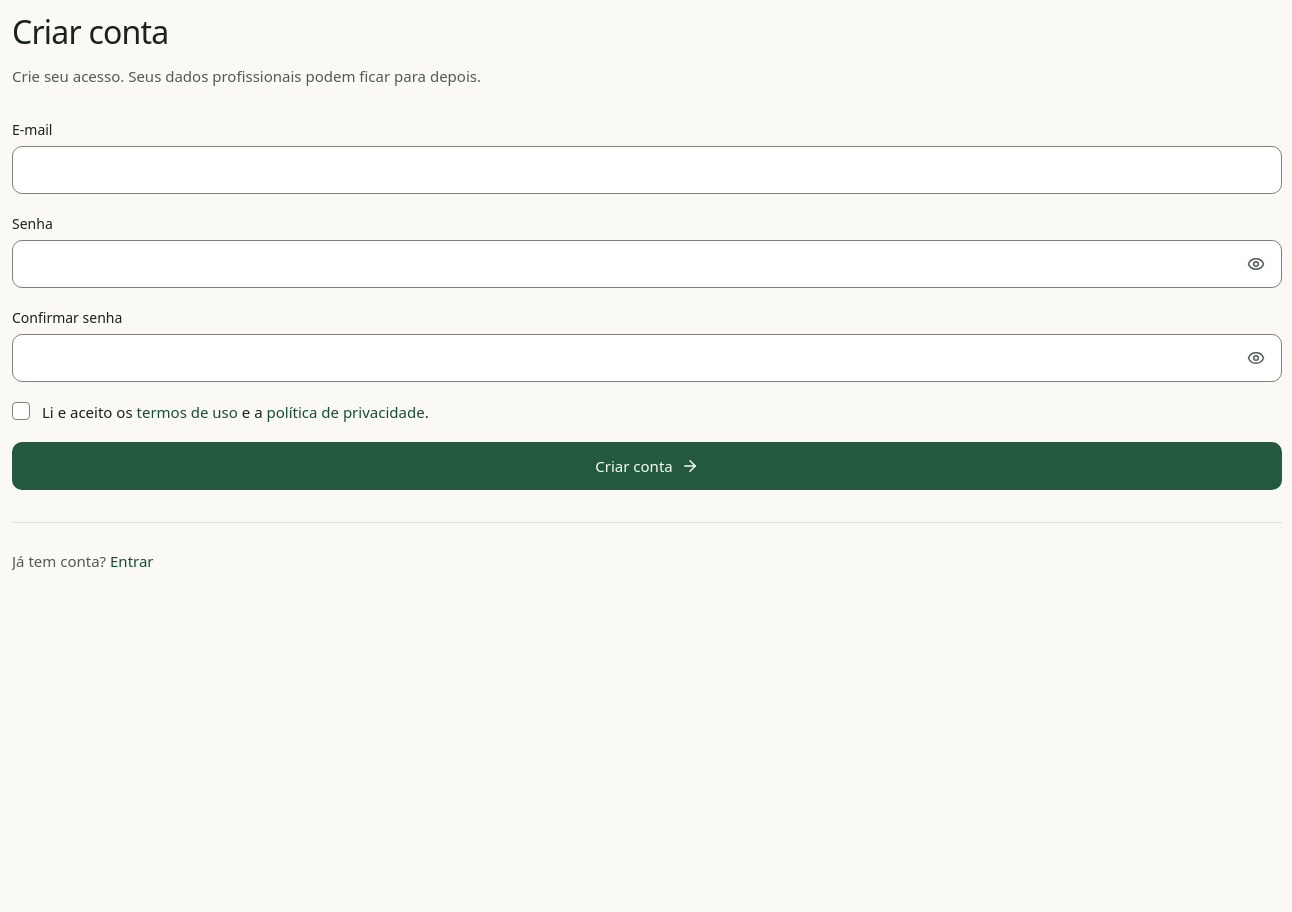
Test: Cadastro sem identificação profissional obrigatória › permanece no acesso sem anunciar envio quando a API falha
This screenshot has width=1292, height=912.
Type "ana@exemplo.com.br" into the field labelled "E-mail" at coordinates (647, 170), box [12,146,1282,194]
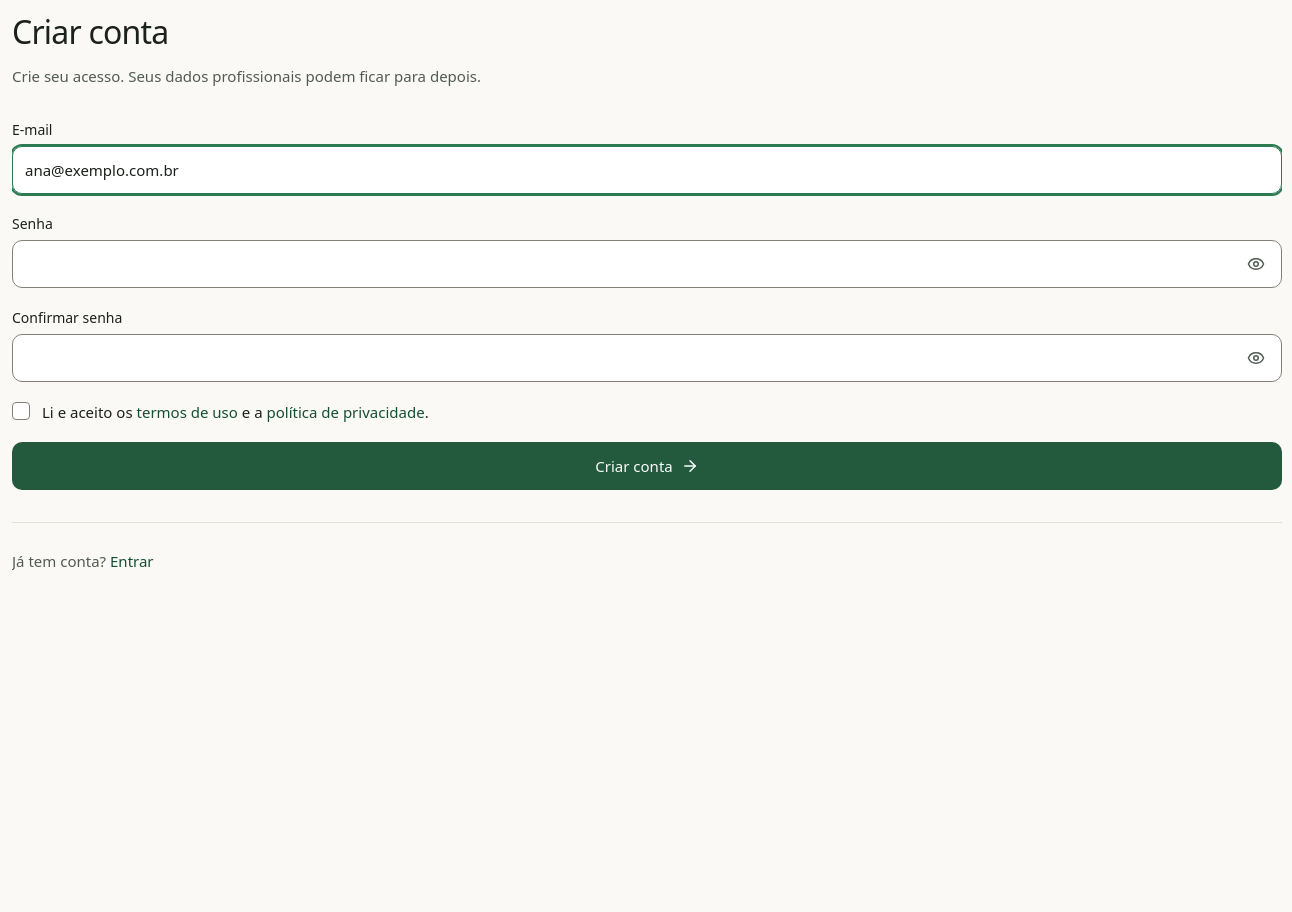
Type "SenhaSegura123!" into the password field labelled "Senha" at coordinates (647, 264), box [12,240,1282,288]
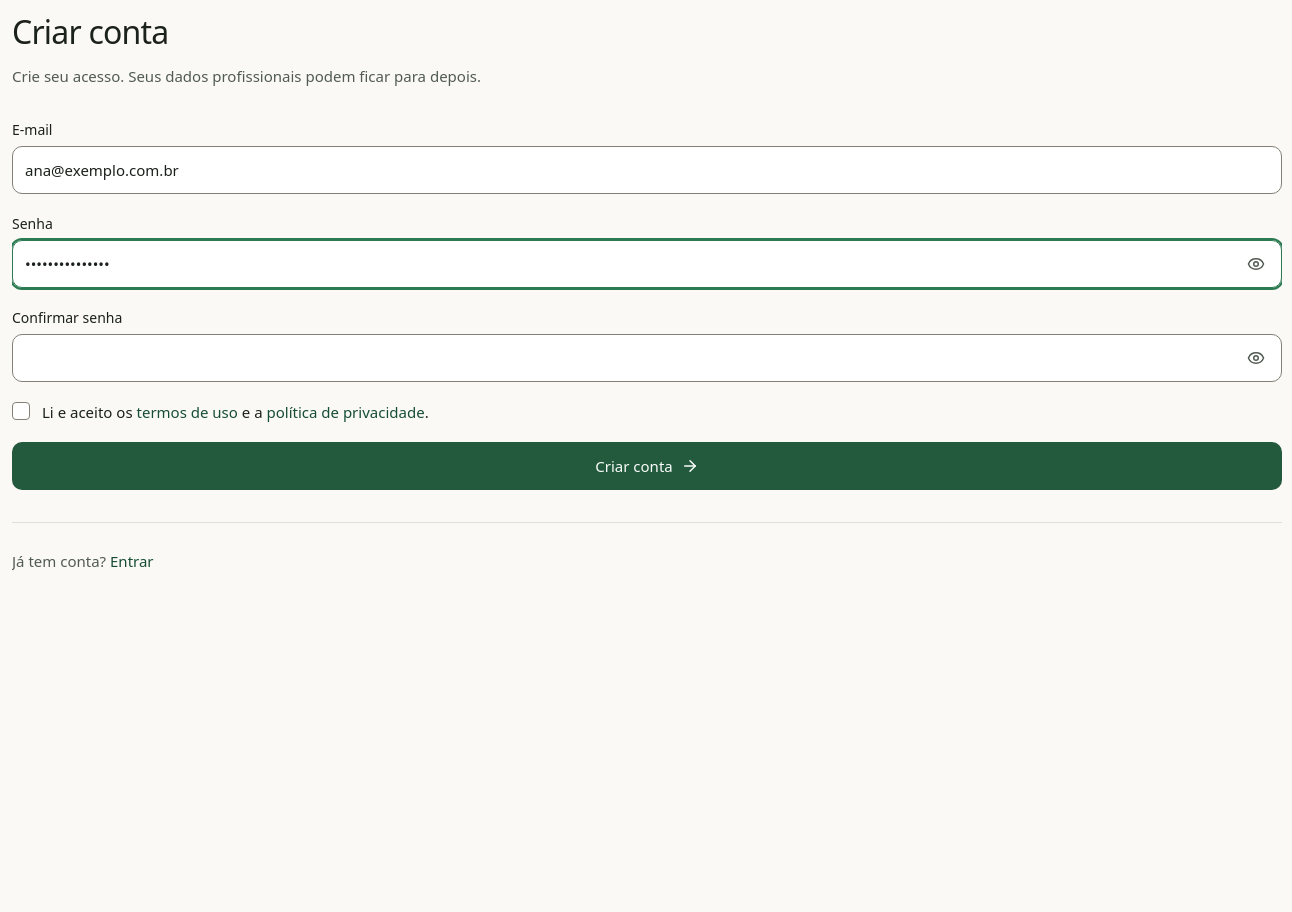
Type "SenhaSegura123!" into the password field labelled "Confirmar senha" at coordinates (647, 358), box [12,334,1282,382]
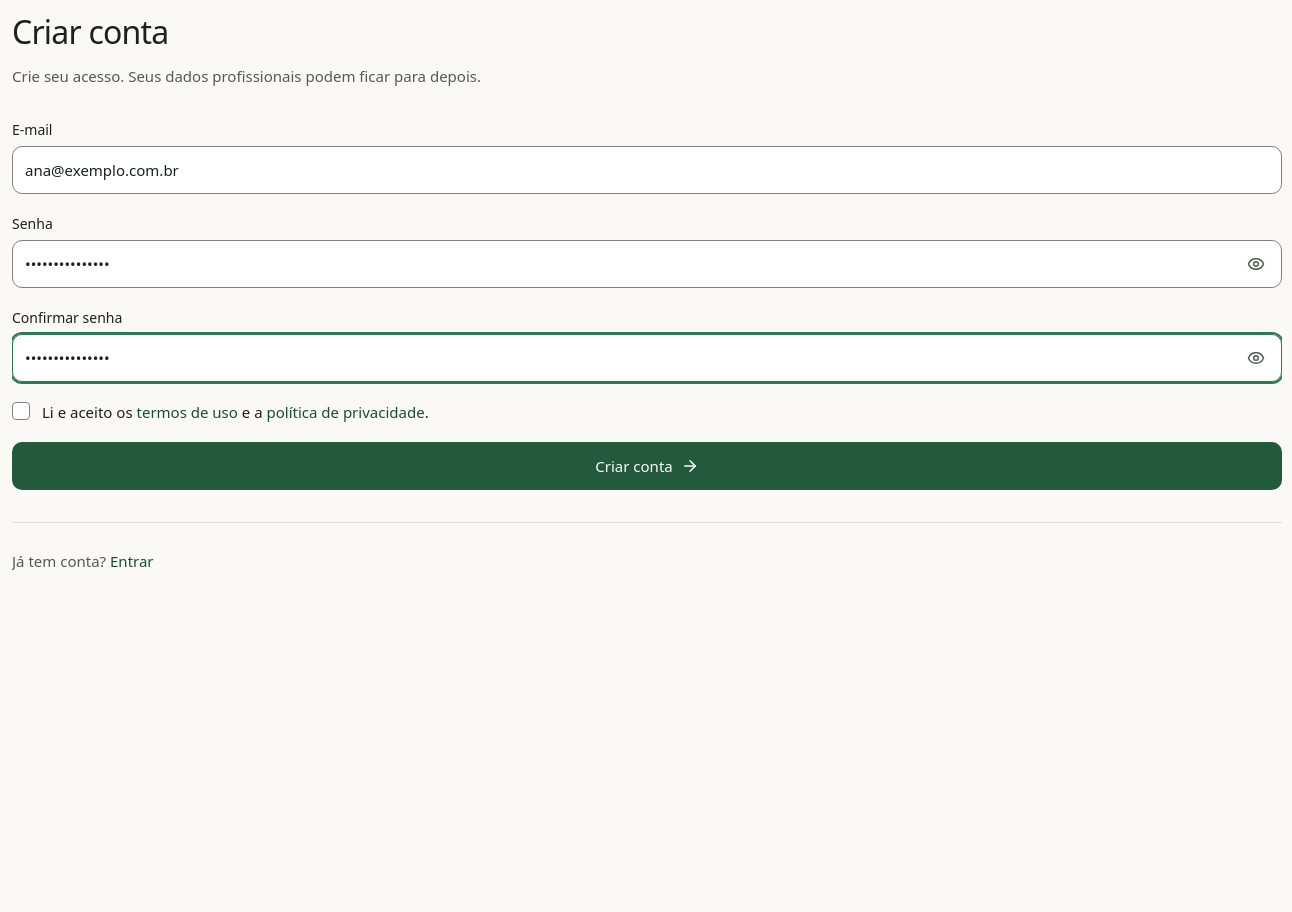
Click the checkbox labelled "Li e aceito os termos de uso e a política de privacidade ." at coordinates (21, 411), box [12,402,30,420]
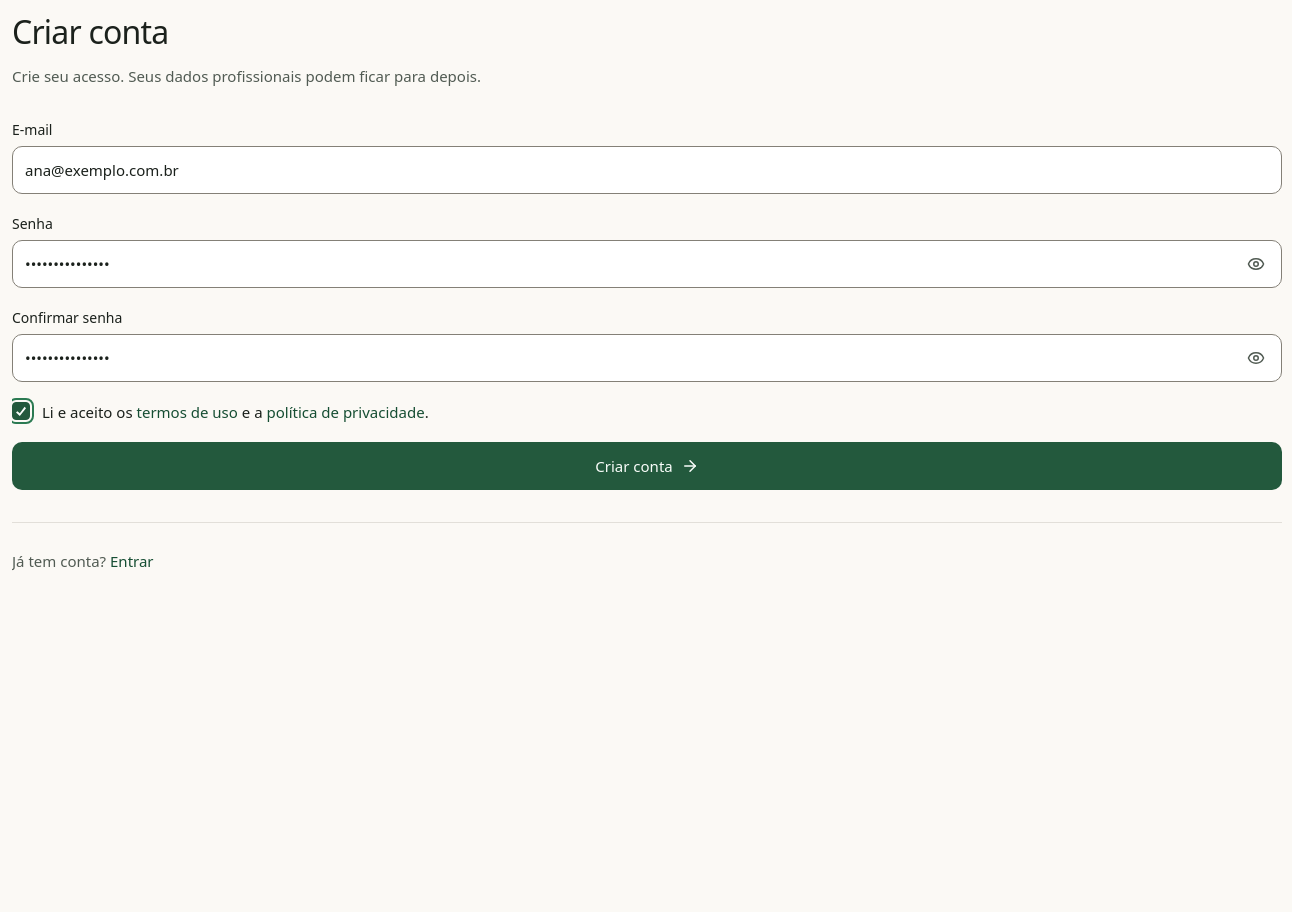
Click the button "Criar conta" at coordinates (647, 466), box [12,442,1282,490]
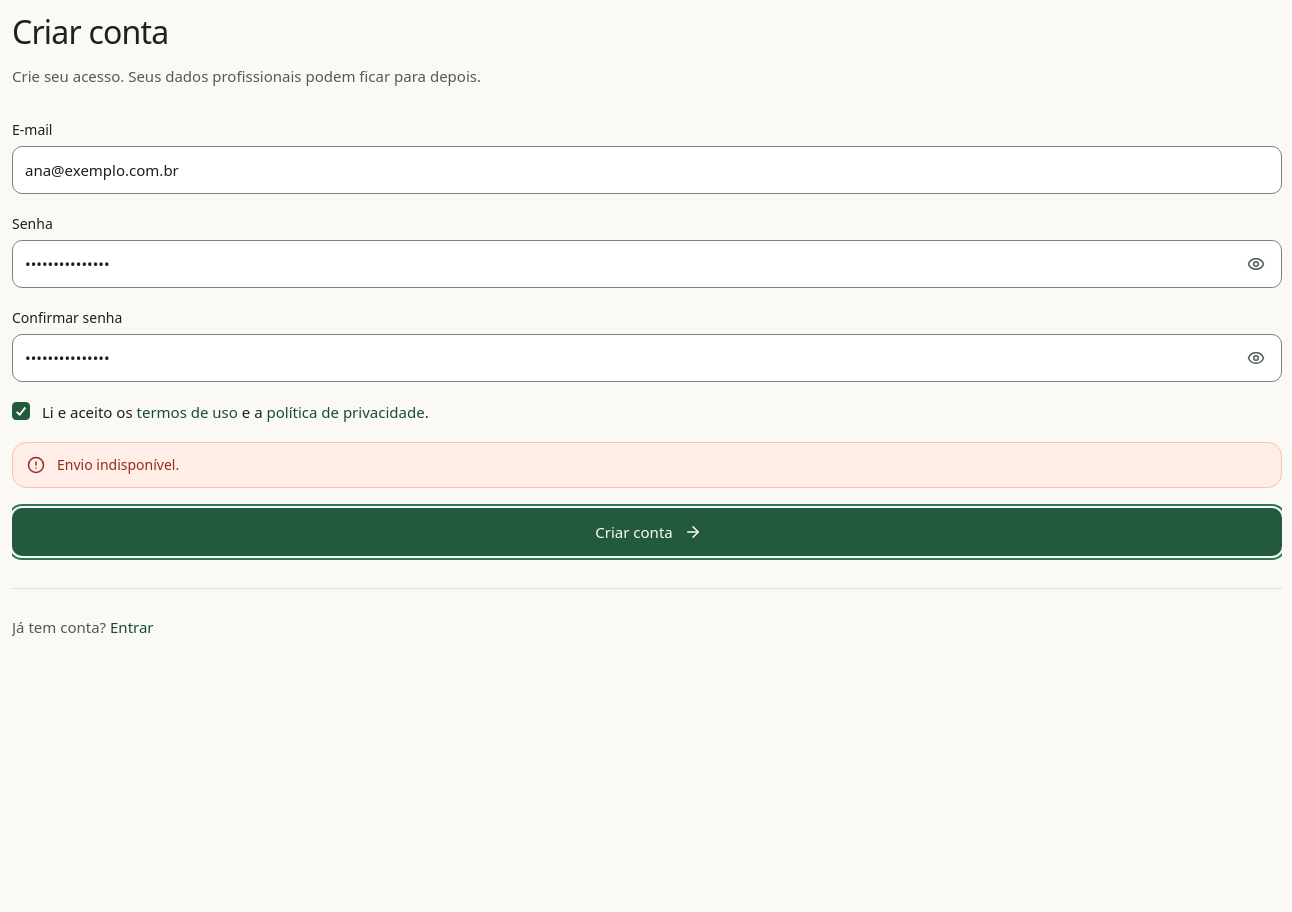
expect the text "Envio indisponível." is shown: met, box [57,455,179,474]
